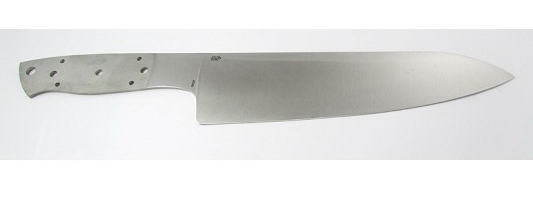knife: (21, 52, 517, 125)
